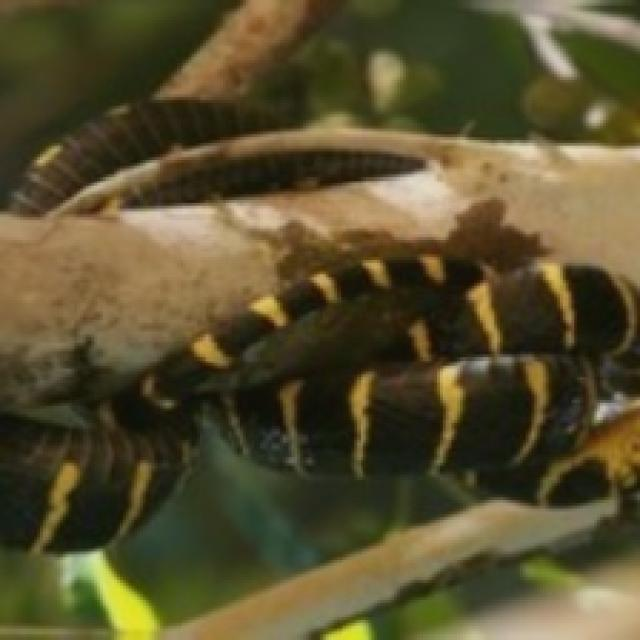mangrove cat snake: (0, 201, 640, 552), (10, 101, 282, 214), (128, 151, 425, 206)
